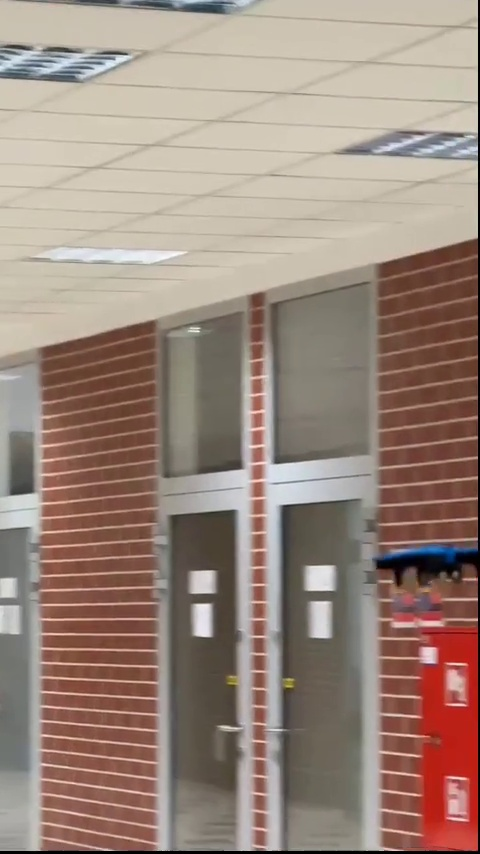drone: (373, 544, 479, 591)
